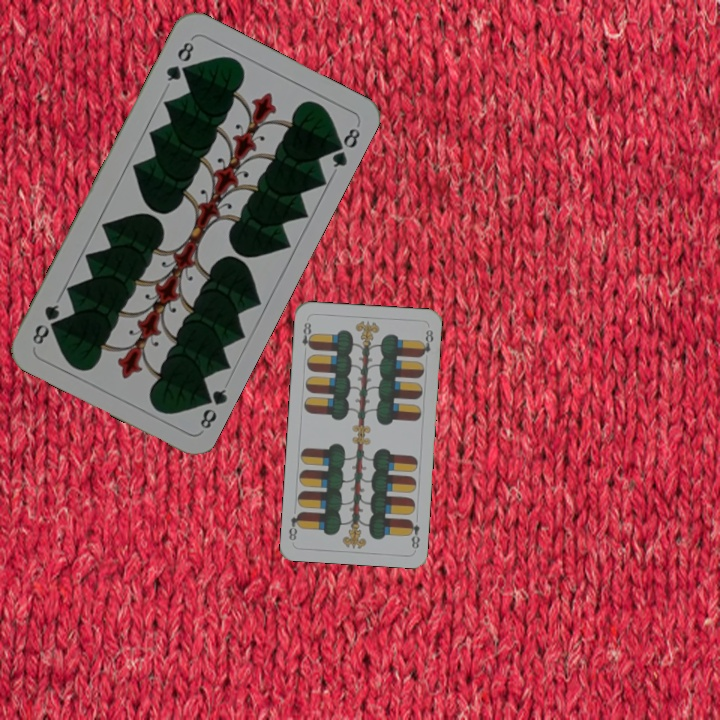E8: (404, 516, 423, 551), (298, 318, 316, 352)
G8: (195, 384, 230, 432), (162, 37, 197, 84)
